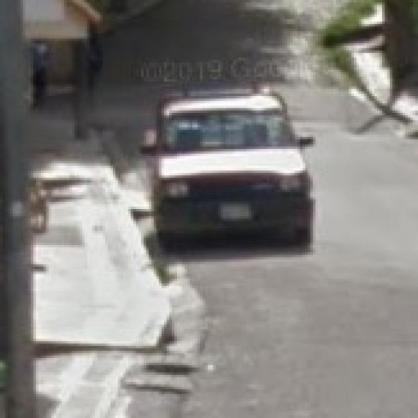car: (146, 88, 321, 255)
